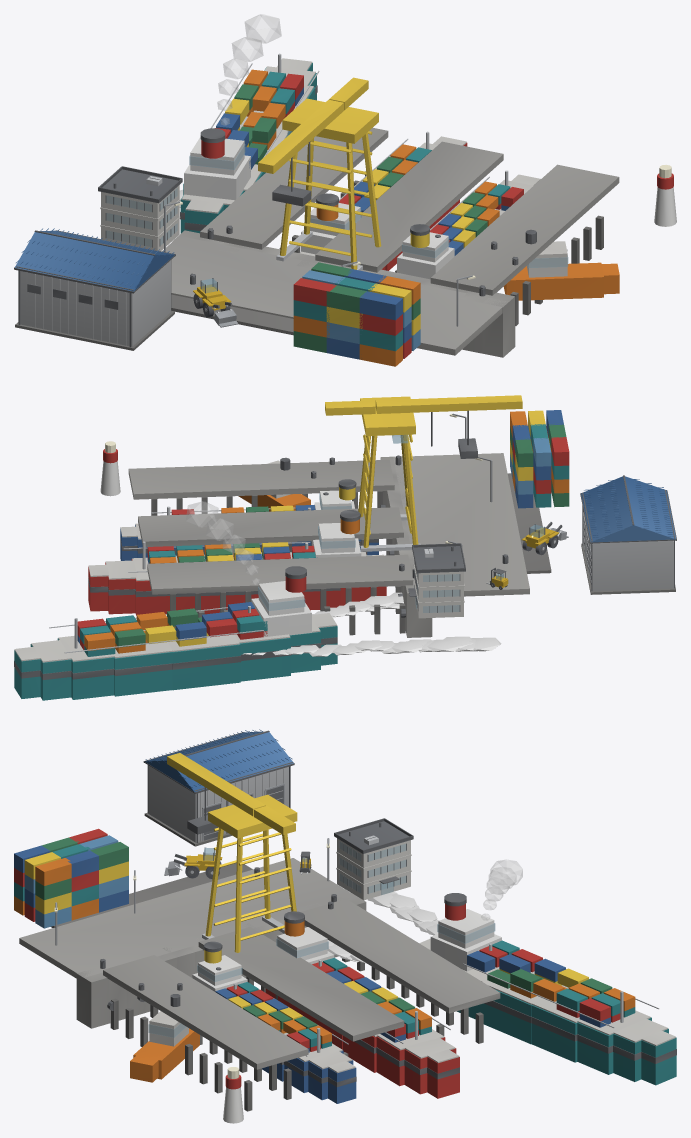
File: Port_P3.fbx
3 renders of one model, top to bottom at view 1: azimuth 30°, elevation 25°; view 2: azimuth 150°, elevation 25°; view 3: azimuth 270°, elevation 25°, orthographic. The views are drawn at different scales.
Visible parts, largest first — view 1: Port.Shed, Port.Apron, Port.ShipOut, Port.Pier2, Port.Containers, Port.Crane0, Port.Pier1, Port.Pier0, Port.Ship1, Port.Control, Port.Tug, Port.Ship0 (+4 smaller); view 2: Port.ShipOut, Port.Apron, Port.Ship0, Port.Shed, Port.Pier0, Port.Pier2, Port.Pier1, Port.Crane0, Port.Containers, Port.Control, Port.Wake, Port.Ship1 (+5 smaller); view 3: Port.ShipOut, Port.Apron, Port.Pier2, Port.Ship0, Port.Pier0, Port.Shed, Port.Containers, Port.Crane0, Port.Pier1, Port.Ship1, Port.Control, Port.QuayWall (+5 smaller).
Boxes of the visible parts, x1,y1,x2,y2 form: Port.Shed: (14, 228, 175, 350); Port.Apron: (162, 236, 508, 355); Port.ShipOut: (180, 53, 319, 233); Port.Pier2: (430, 164, 619, 325); Port.Containers: (293, 262, 420, 366); Port.Crane0: (258, 77, 381, 270); Port.Pier1: (315, 141, 503, 272); Port.Pier0: (200, 128, 388, 252); Port.Ship1: (397, 170, 540, 279); Port.Control: (98, 166, 182, 250); Port.Tug: (503, 229, 619, 300); Port.Ship0: (299, 131, 467, 270); Port.ShipOut: (14, 566, 337, 700); Port.Apron: (393, 453, 551, 596); Port.Ship0: (88, 510, 386, 615); Port.Shed: (580, 475, 676, 594); Port.Pier0: (147, 554, 412, 635); Port.Pier2: (128, 459, 394, 515); Port.Pier1: (138, 507, 403, 555); Port.Crane0: (325, 395, 522, 551); Port.Containers: (510, 410, 569, 508); Port.Control: (408, 543, 465, 618); Port.Wake: (242, 592, 501, 656); Port.Ship1: (120, 479, 378, 560); Port.ShipOut: (419, 893, 676, 1085); Port.Apron: (19, 858, 357, 978); Port.Pier2: (103, 955, 308, 1111); Port.Ship0: (265, 911, 459, 1098); Port.Pier0: (300, 899, 500, 1043); Port.Shed: (143, 729, 294, 846); Port.Containers: (14, 828, 128, 928); Port.Crane0: (167, 753, 297, 952); Port.Pier1: (198, 927, 404, 1056); Port.Ship1: (192, 941, 356, 1103); Port.Control: (334, 818, 413, 900); Port.QuayWall: (76, 893, 366, 1028).
Bounding box in the file's own units: 13298 × 4068 × 12724.
